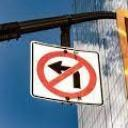NoVirarEsquerda: (38, 51, 97, 100)
